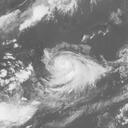cyclone: (42, 48, 101, 94)
